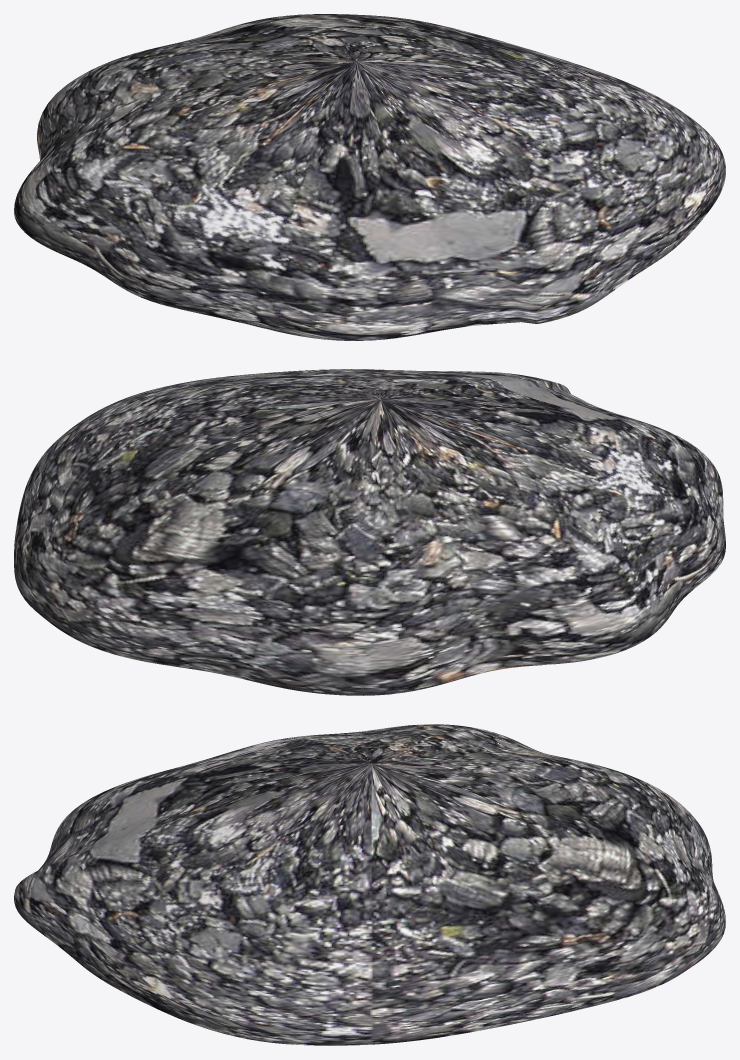
File: cendres.fbx
3 renders of one model, top to bottom at view 1: azimuth 30°, elevation 25°; view 2: azimuth 150°, elevation 25°; view 3: azimuth 270°, elevation 25°, orthographic. The views are drawn at different scales.
Parts seen in each view (by area): view 1: Sphere; view 2: Sphere; view 3: Sphere.
Part boxes in pixels (x1=…): Sphere: x1=14, y1=14, x2=725, y2=340; Sphere: x1=14, y1=369, x2=725, y2=695; Sphere: x1=14, y1=724, x2=725, y2=1045.
Size of the model in its own units: 390 by 79.36 by 400.
Materials: 1 (1 with a texture image).
